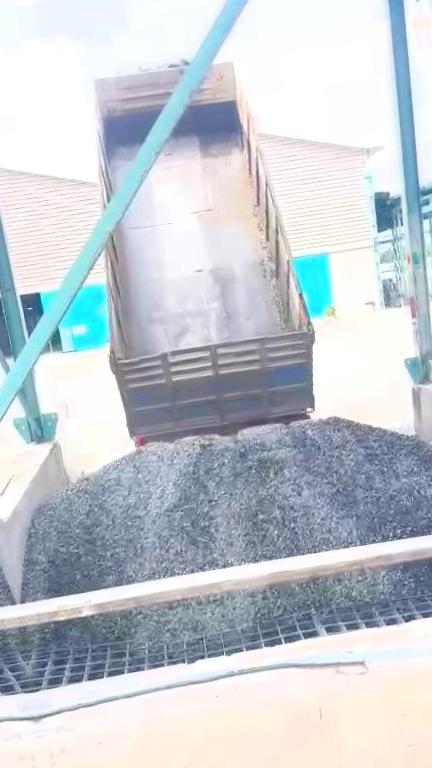gravel: (23, 418, 432, 601), (54, 556, 432, 638), (23, 611, 139, 654)
